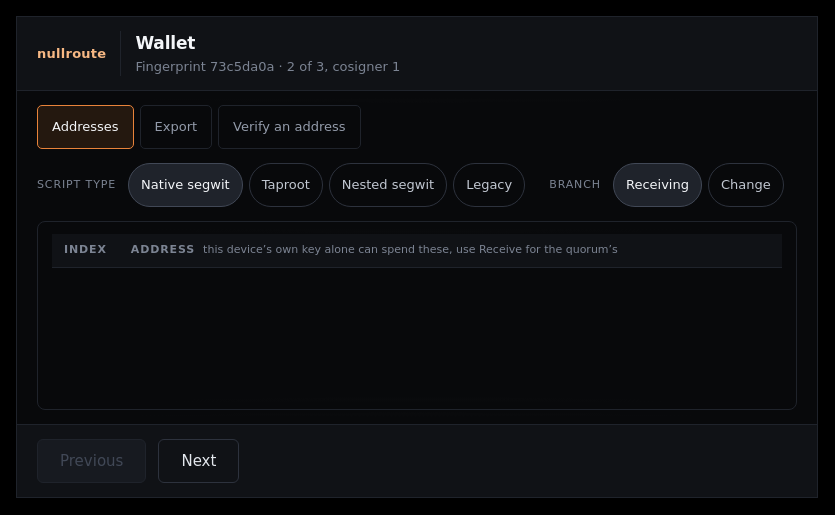
WalletScreen export on a device holding a quorum › offers-the-quorum-descriptor-as-the-thing-to-back-up
This screenshot has width=835, height=515.
Click the button with test id "tab-export".
click(176, 127)  # box [140,105,212,149]
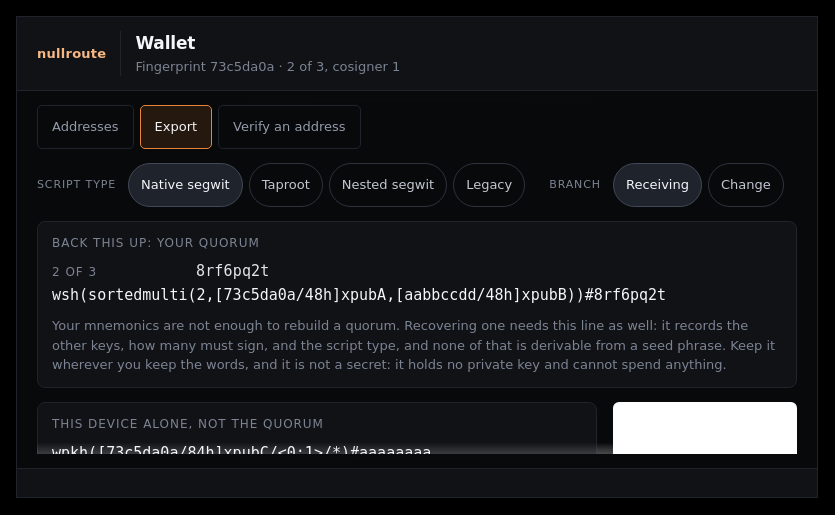
Result: the element with test id "export-quorum" shows "Back this up: your quorum" at [52,236,260,250]
Result: the element with test id "export-quorum" shows "mnemonics are not enough" at [52,318,775,372]
Result: the text with test id "export-quorum-descriptor" reads "wsh(sortedmulti(2,[73c5da0a/48h]xpubA,[aabbccdd/48h]xpubB))#8rf6pq2t" at [52,286,666,304]
